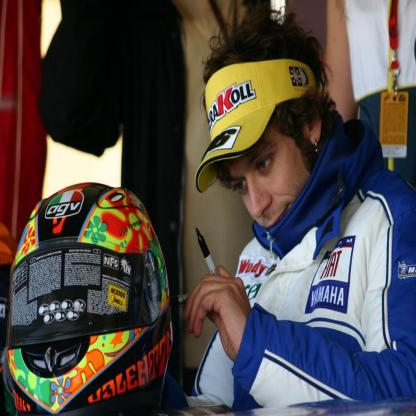Helmet: (6, 181, 174, 416)
